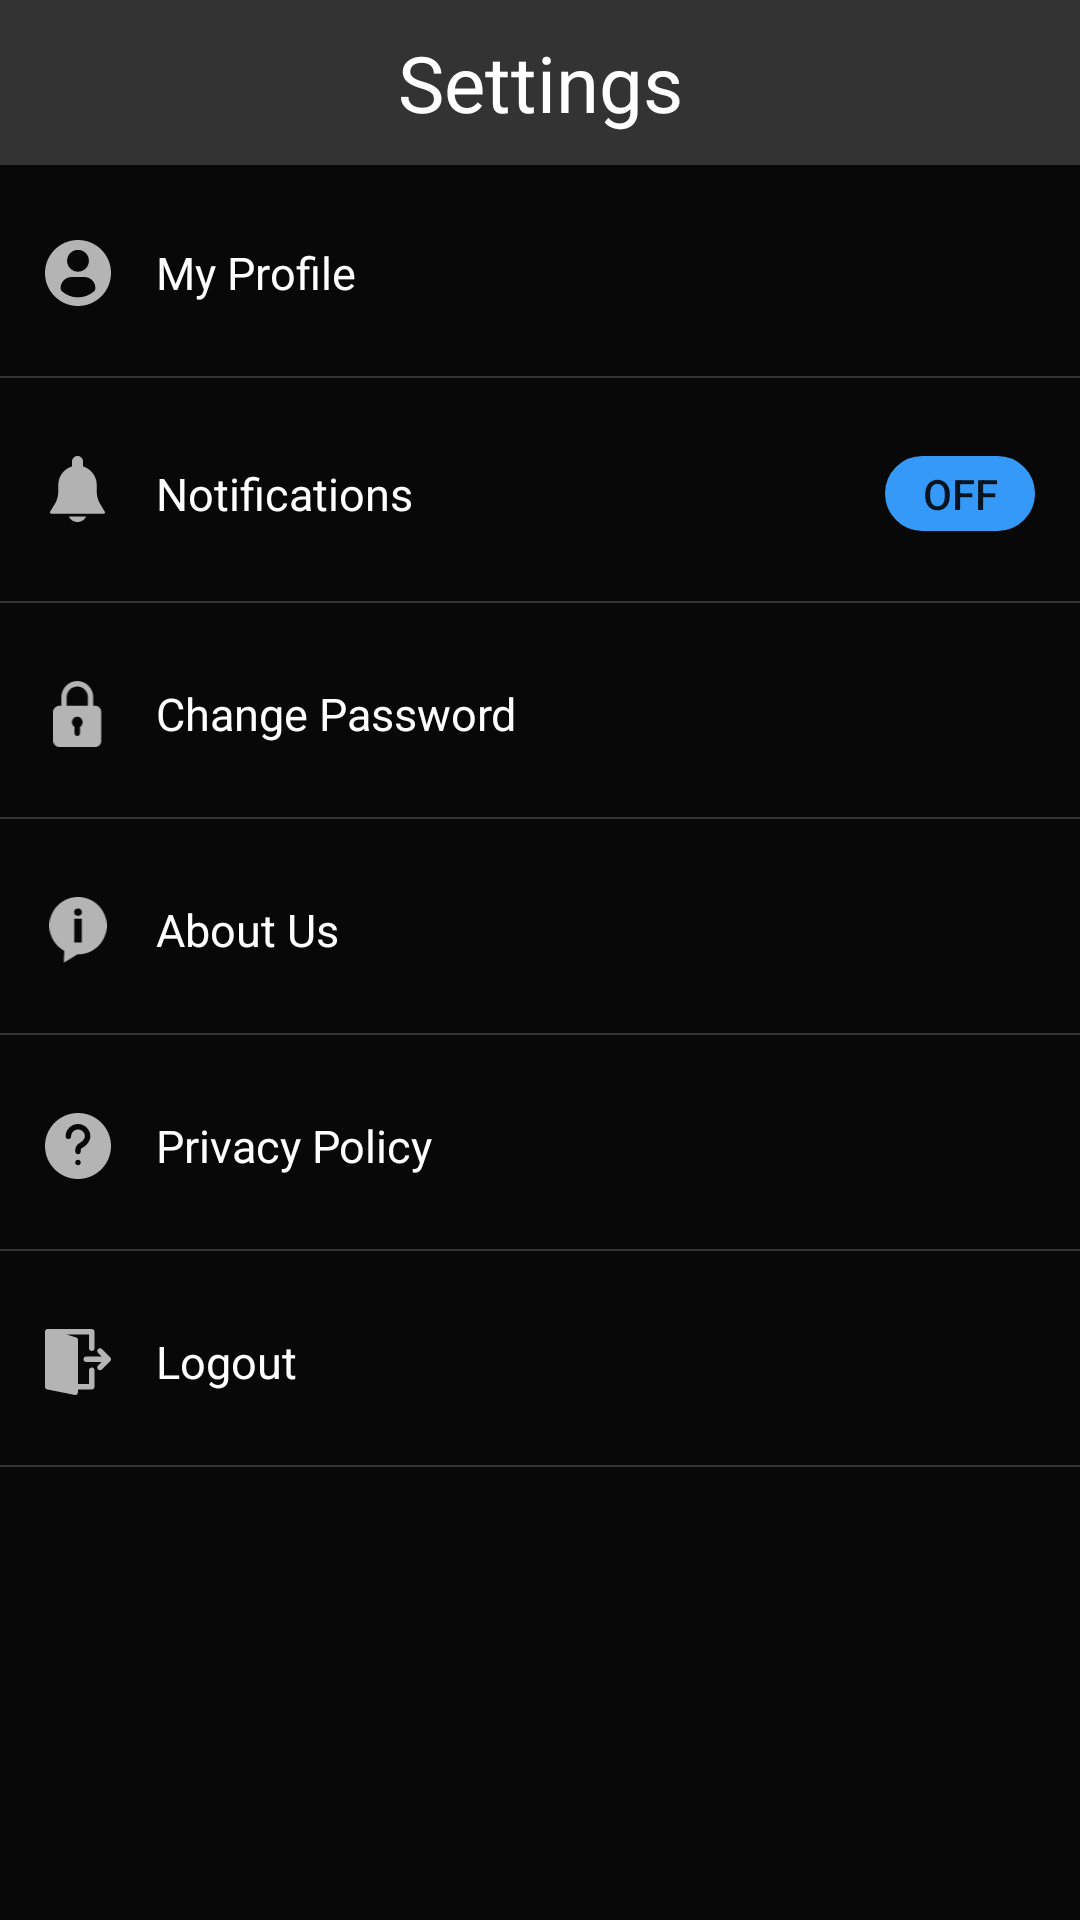

Where to tap for icons on this 1080px x 1920px app screen, as [x,y]:
bell: [77,489]
